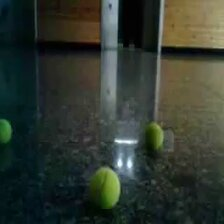tennis: (88, 166, 121, 209), (145, 123, 163, 148), (1, 118, 12, 145)
